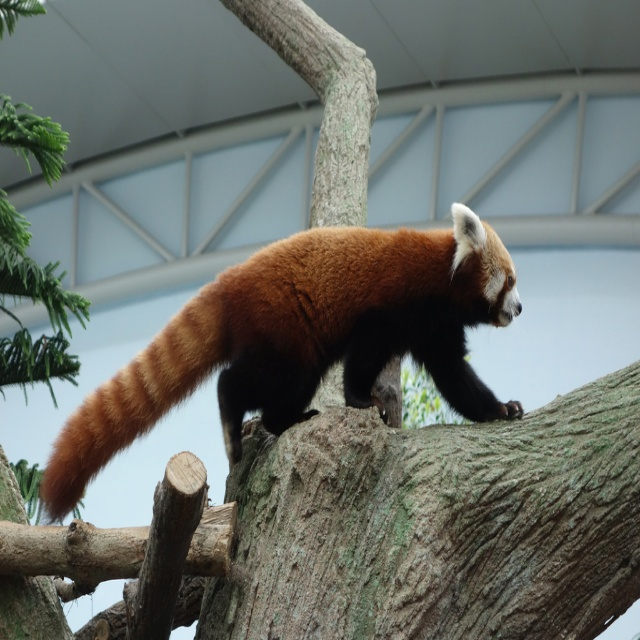Red panda: (38, 202, 524, 528)
